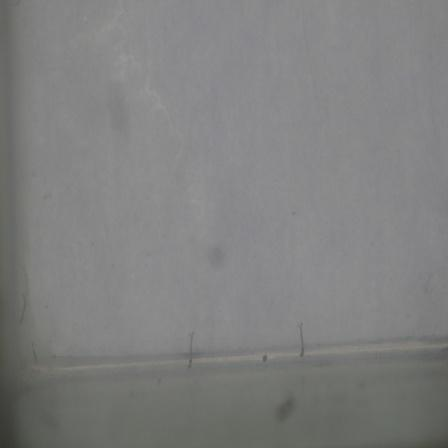Jentik-Nyamuk: (294, 313, 310, 362), (183, 327, 197, 367)
